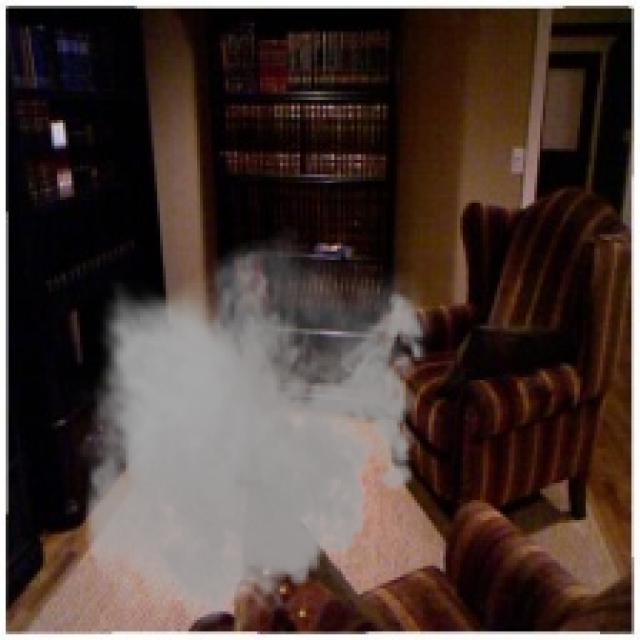smoke: (71, 226, 440, 637)
